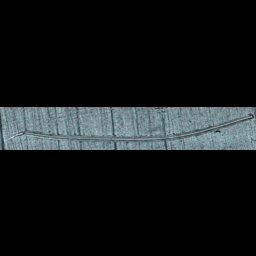d: (4, 111, 254, 143)
